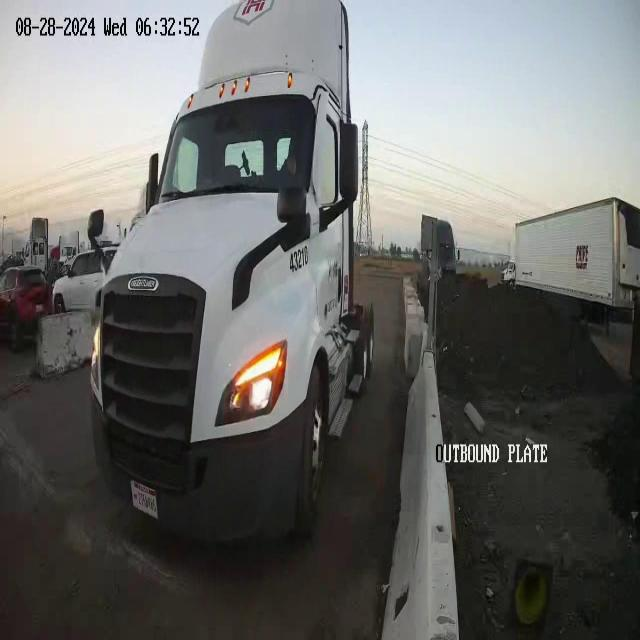BOBTAIL: (88, 0, 377, 549)
